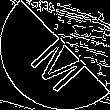M_NE: (20, 21, 90, 89)
